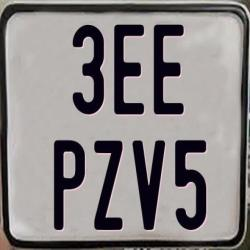3: (72, 23, 107, 116)
5: (175, 139, 206, 232)
E: (113, 23, 145, 114), (152, 23, 183, 114)
P: (53, 139, 88, 231)
V: (132, 139, 165, 228)
Z: (94, 139, 124, 232)
